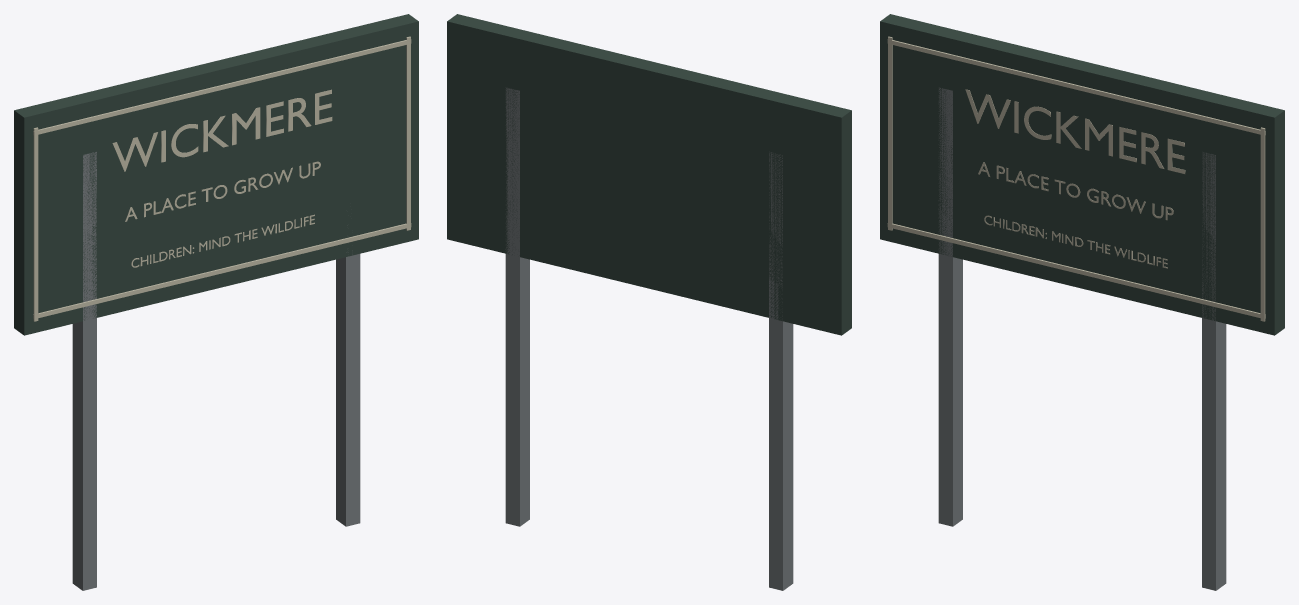
The model's file is county-sign.glb.
The picture shows the model from 3 angles, left to right: view 1: azimuth 30°, elevation 25°; view 2: azimuth 150°, elevation 25°; view 3: azimuth 330°, elevation 25°; orthographic projection.
Visible parts, largest first — view 1: Sign board, Post, Post.001, Town name, Border.003, Border.002, Border, Town subtitle, Border.001, Town warning; view 2: Sign board, Post.001, Post; view 3: Sign board, Post, Post.001, Town name, Border.003, Border.002, Border.001, Town subtitle, Border, Town warning.
Boxes of the visible parts, bbox=[...] form: Sign board: bbox=[14, 14, 418, 335]; Post: bbox=[72, 152, 96, 590]; Post.001: bbox=[336, 225, 360, 526]; Town name: bbox=[112, 89, 332, 171]; Border.003: bbox=[33, 39, 411, 135]; Border.002: bbox=[33, 223, 411, 318]; Border: bbox=[33, 127, 38, 321]; Town subtitle: bbox=[125, 161, 320, 221]; Border.001: bbox=[406, 36, 410, 230]; Town warning: bbox=[131, 214, 314, 267]; Sign board: bbox=[447, 14, 851, 335]; Post.001: bbox=[505, 87, 529, 526]; Post: bbox=[769, 151, 793, 590]; Sign board: bbox=[880, 14, 1284, 335]; Post: bbox=[938, 87, 962, 526]; Post.001: bbox=[1202, 152, 1226, 590]; Town name: bbox=[965, 89, 1185, 173]; Border.003: bbox=[887, 39, 1265, 135]; Border.002: bbox=[887, 223, 1265, 318]; Border.001: bbox=[1260, 127, 1265, 321]; Town subtitle: bbox=[978, 162, 1173, 220]; Border: bbox=[888, 36, 892, 230]; Town warning: bbox=[984, 215, 1167, 268].
Bounding box in the file's own units: 1.8 × 2.12 × 0.0927.
